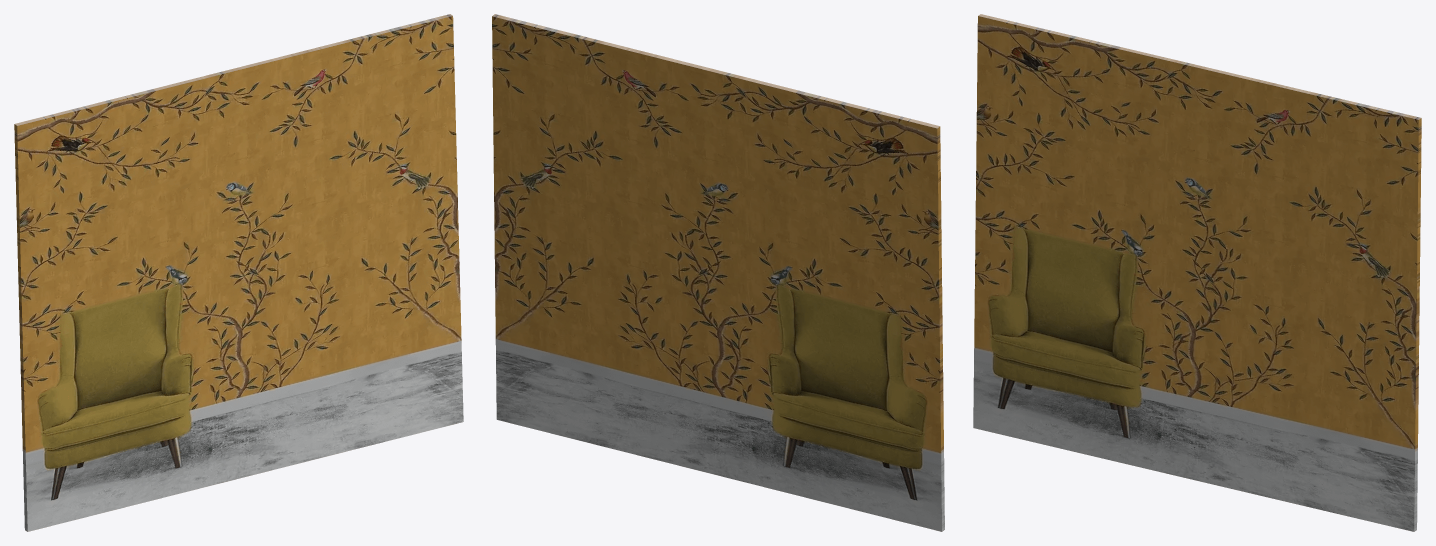
The picture shows the model from 3 angles, left to right: view 1: azimuth 30°, elevation 25°; view 2: azimuth 150°, elevation 25°; view 3: azimuth 330°, elevation 25°; orthographic projection. The views are drawn at different scales.
Visible parts, largest first — view 1: Mesh_0.020; view 2: Mesh_0.020; view 3: Mesh_0.020.
Part boxes in pixels (x1,y1,x2,y2): Mesh_0.020: [14, 14, 463, 531]; Mesh_0.020: [492, 14, 944, 531]; Mesh_0.020: [973, 14, 1421, 531].
Bounding box in the file's own units: 22.88 × 20.17 × 0.9454.
Materials: 1 (1 with a texture image).
